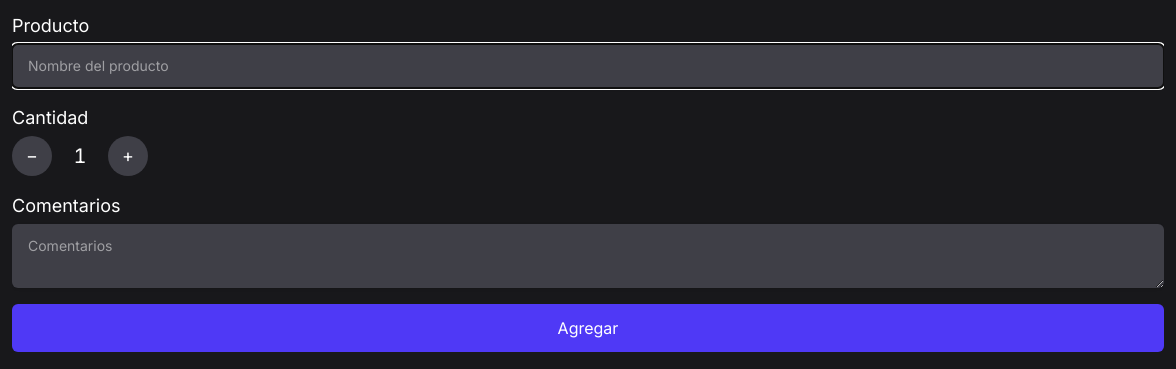
Test: AddItemForm › decrements quantity when pressing - button
Click the button "+": (128, 156) x1=108 y1=136 x2=148 y2=176
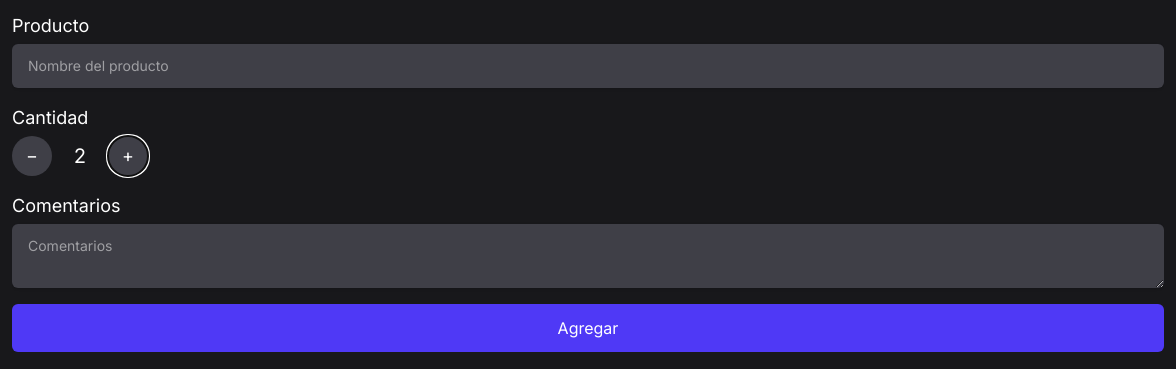
Click the button "+": (128, 156) x1=108 y1=136 x2=148 y2=176
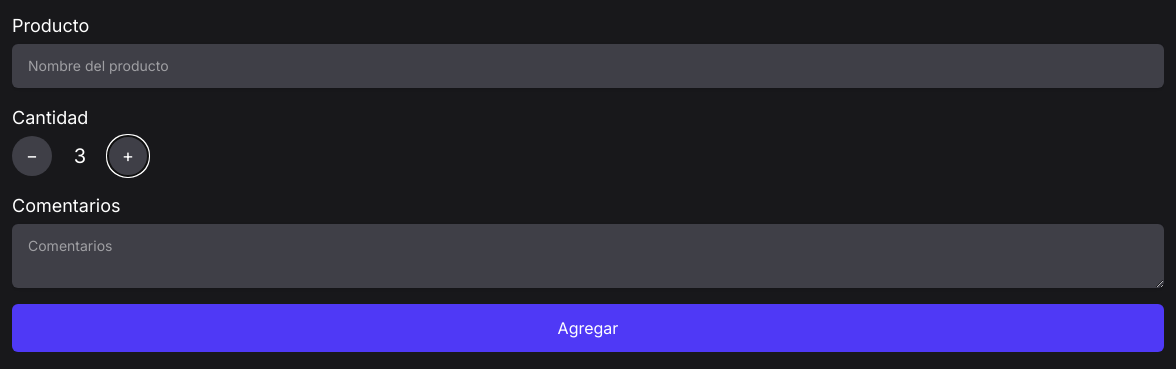
Expected: the text "3" is shown, x1=74 y1=144 x2=86 y2=168
Click the button "−": (32, 156) x1=12 y1=136 x2=52 y2=176
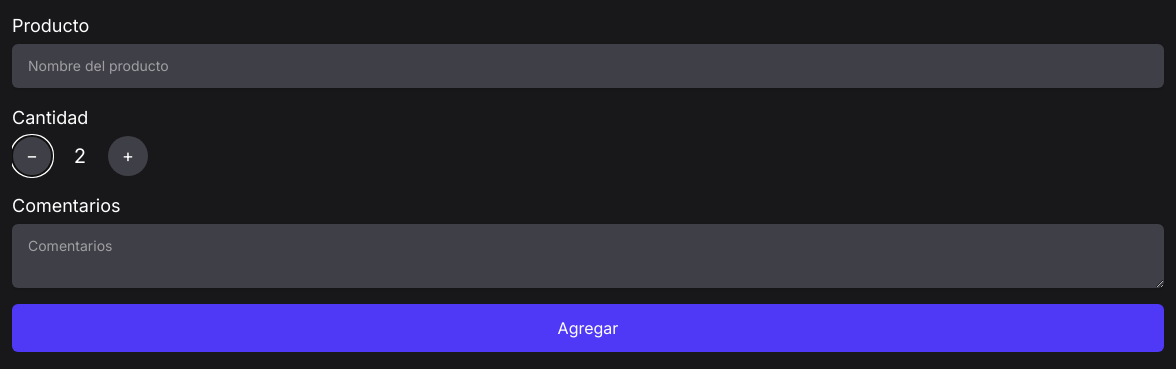
Expected: the text "2" is shown, x1=74 y1=144 x2=86 y2=168
